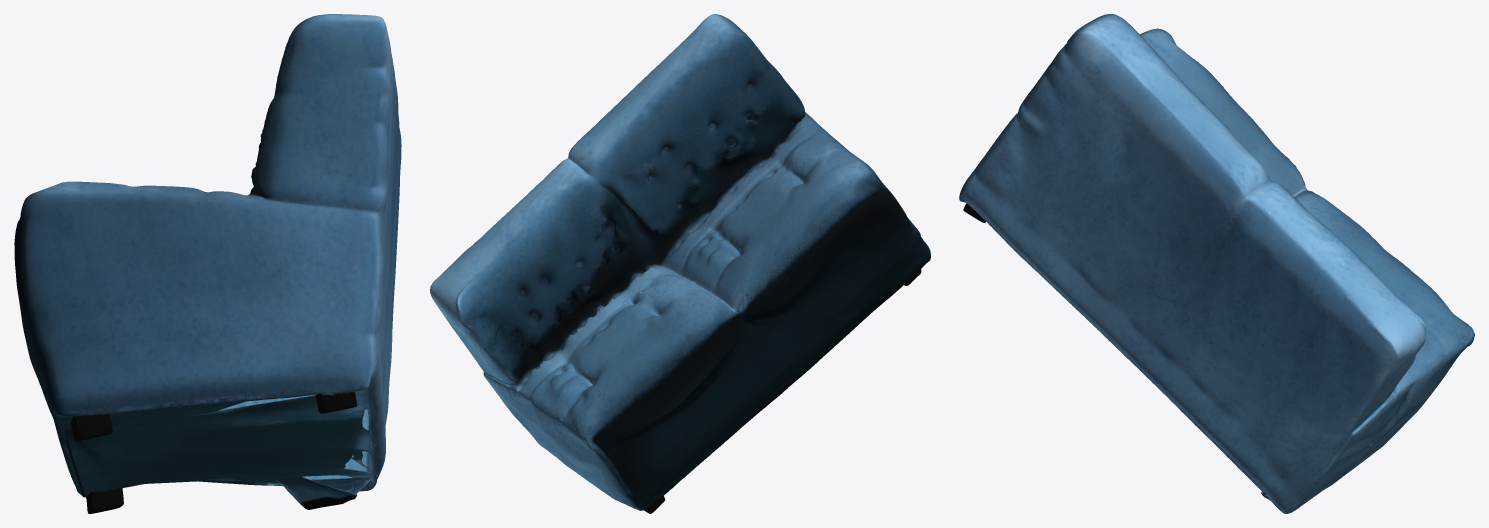
File: pixal3d.glb
The picture shows the model from 3 angles, left to right: view 1: azimuth 30°, elevation 25°; view 2: azimuth 150°, elevation 25°; view 3: azimuth 270°, elevation 25°; orthographic projection. The views are drawn at different scales.
Parts seen in each view (by area): view 1: world; view 2: world; view 3: world.
Part boxes in pixels (x1,y1,x2,y2): world: (14, 14, 401, 513); world: (430, 14, 930, 513); world: (959, 14, 1474, 513).
Size of the model in its own units: 0.8338 by 0.8723 by 0.9122.
Materials: 1 (1 with a texture image).
